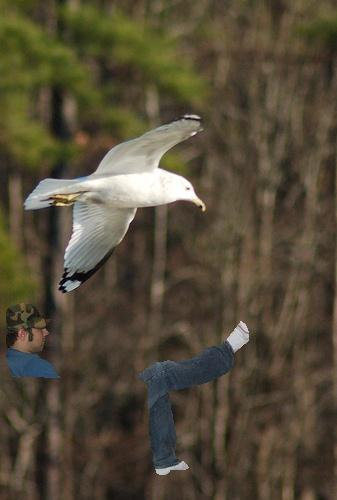tampered: (6, 304, 249, 475)
